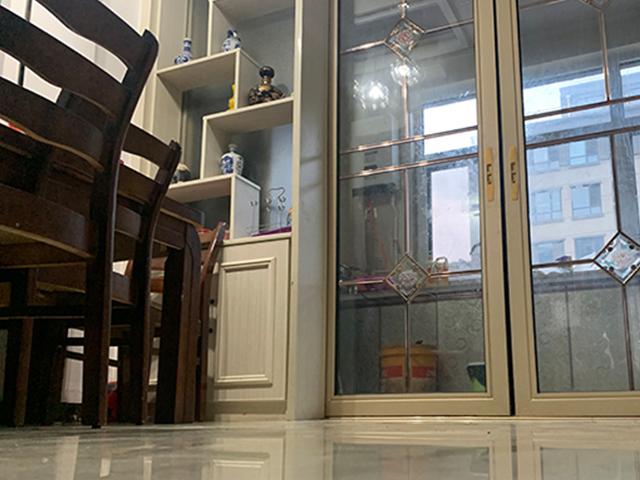cabinet: (138, 221, 310, 417)
stool: (1, 1, 161, 429)
